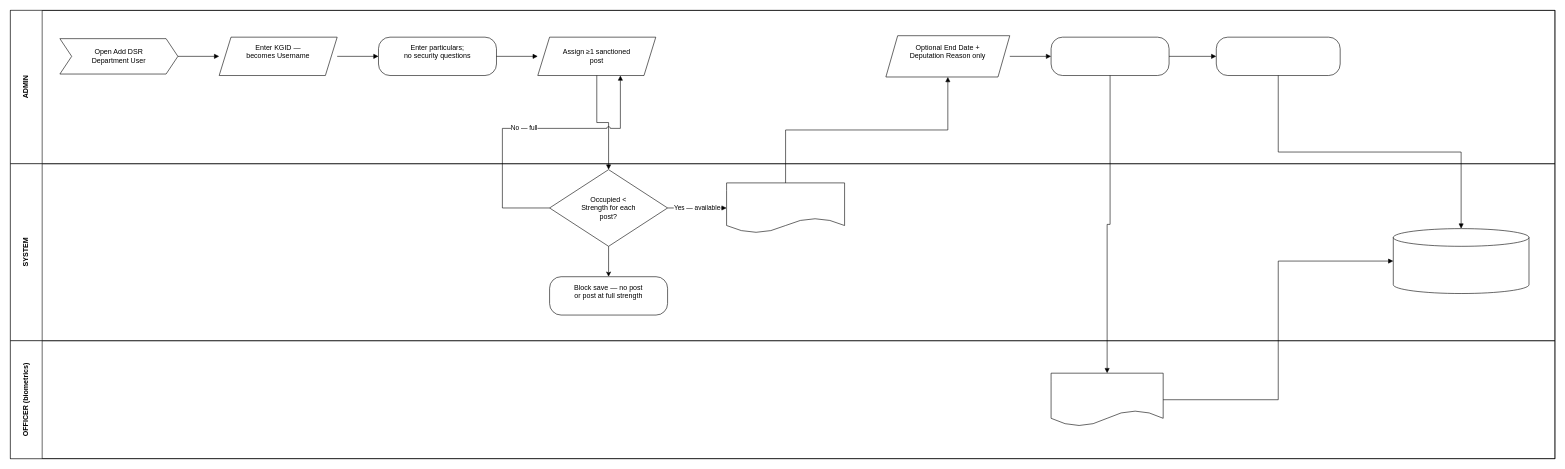
Image size: 1565x469. Some labels were removed from this diagram. Here are the shapes that lost their labels. From the top down, the box of each, then its label:
(1050, 37, 1169, 76): Upload approval letter (should, not mandatory)
(1216, 37, 1340, 76): Review post occupancies + mapped roles; confirm
(726, 182, 845, 233): Roles shown via Post–Role mapping; no Primary/Secondary
(1393, 228, 1529, 294): Save — account active; Occupied +1 per post
(1050, 373, 1163, 426): Capture biometrics (mandatory)
